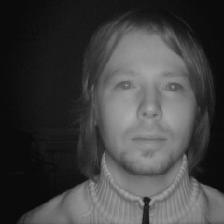normal: (70, 12, 224, 185)
